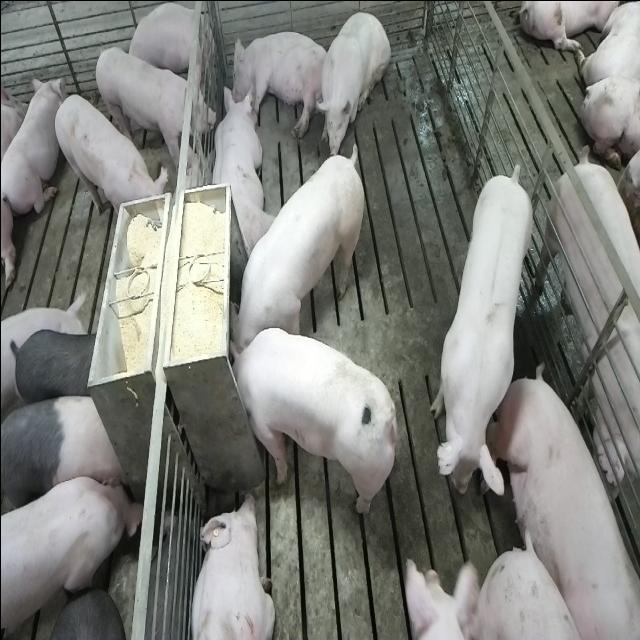Feeding: (220, 326, 392, 518), (230, 138, 366, 358)
Lateral_lying: (495, 363, 640, 640), (230, 29, 329, 140)
Sitting: (316, 7, 390, 156)
Standing: (537, 146, 640, 568), (429, 156, 533, 498), (2, 469, 142, 640), (51, 91, 168, 232), (2, 390, 126, 520), (92, 43, 216, 164), (10, 324, 113, 414), (34, 589, 122, 640)
Sternal_lying: (186, 490, 274, 640), (206, 85, 272, 261), (2, 72, 62, 222), (125, 3, 208, 85)
